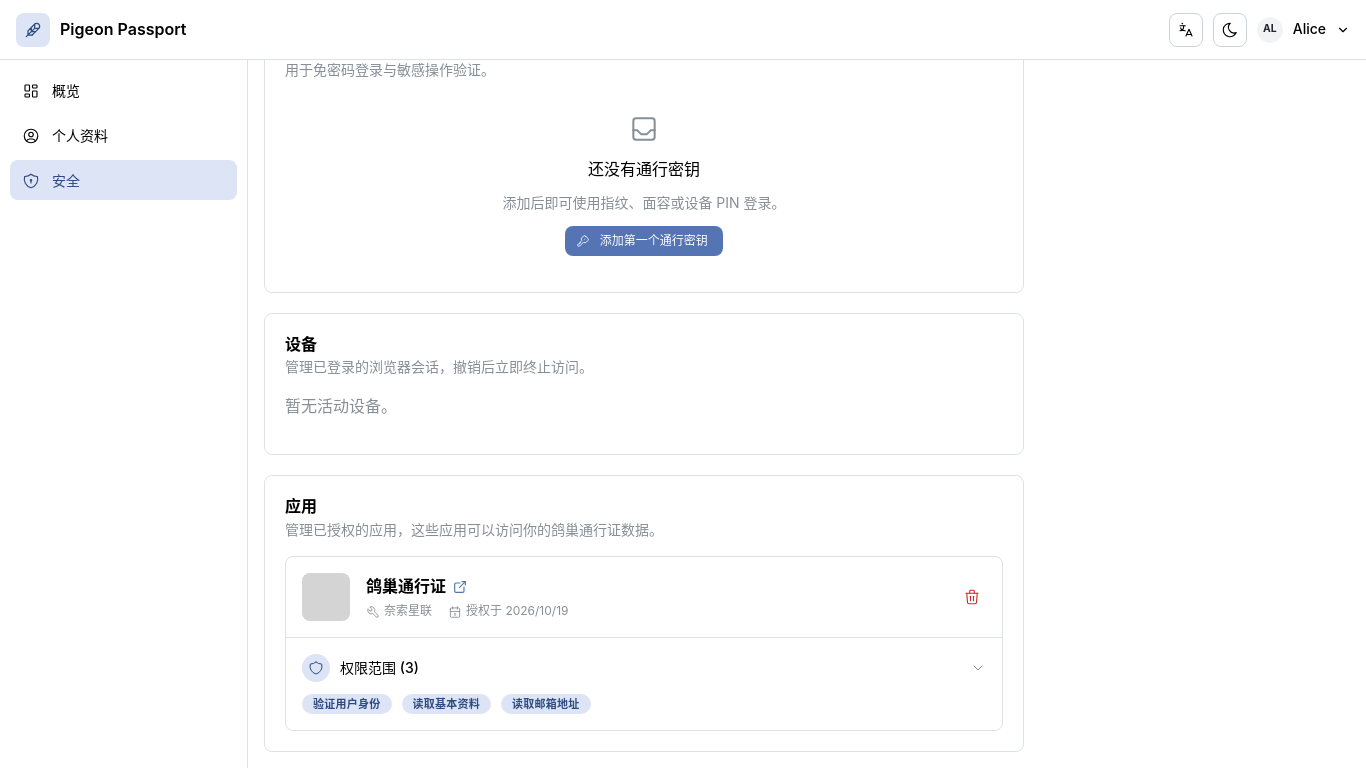
Test: AuthorizedAppsCard › renders authorized applications, expands permission details and revokes after confirmation
(page scrolled)
Expected: the heading "应用" is shown, [285,496,317,518]
Expected: the text "鸽巢通行证" is shown, [366,574,446,599]
What coordinates should you click on to do the following:
click the button "权限范围 (3)"
I would click on:
 (379, 668)
Its box is [302,654,986,682].
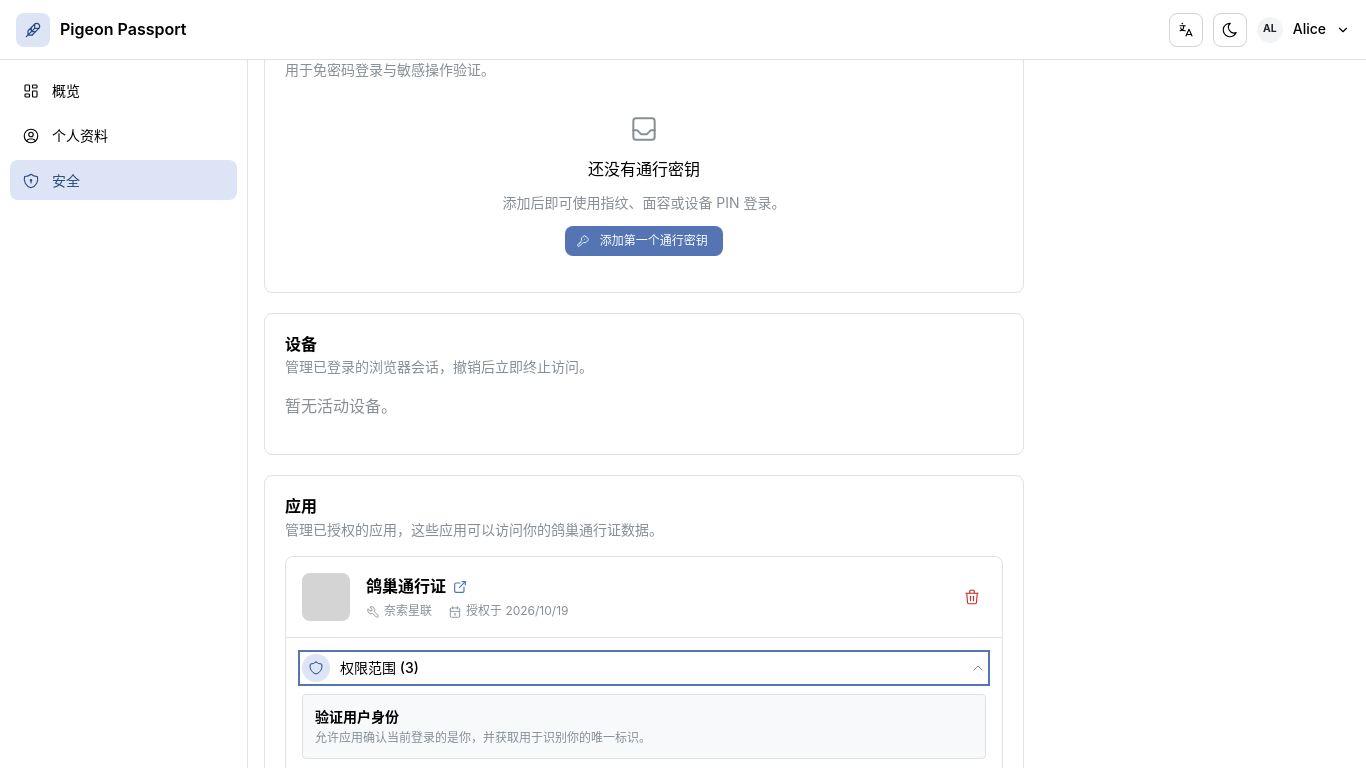
Expected: the text "允许应用确认当前登录的是你，并获取用于识别你的唯一标识。" is shown, [315,730,651,744]
What coordinates should you click on to do the following:
click the button named "撤销 鸽巢通行证 的授权"
I would click on:
 (972, 597)
Its box is [958,583,986,611].
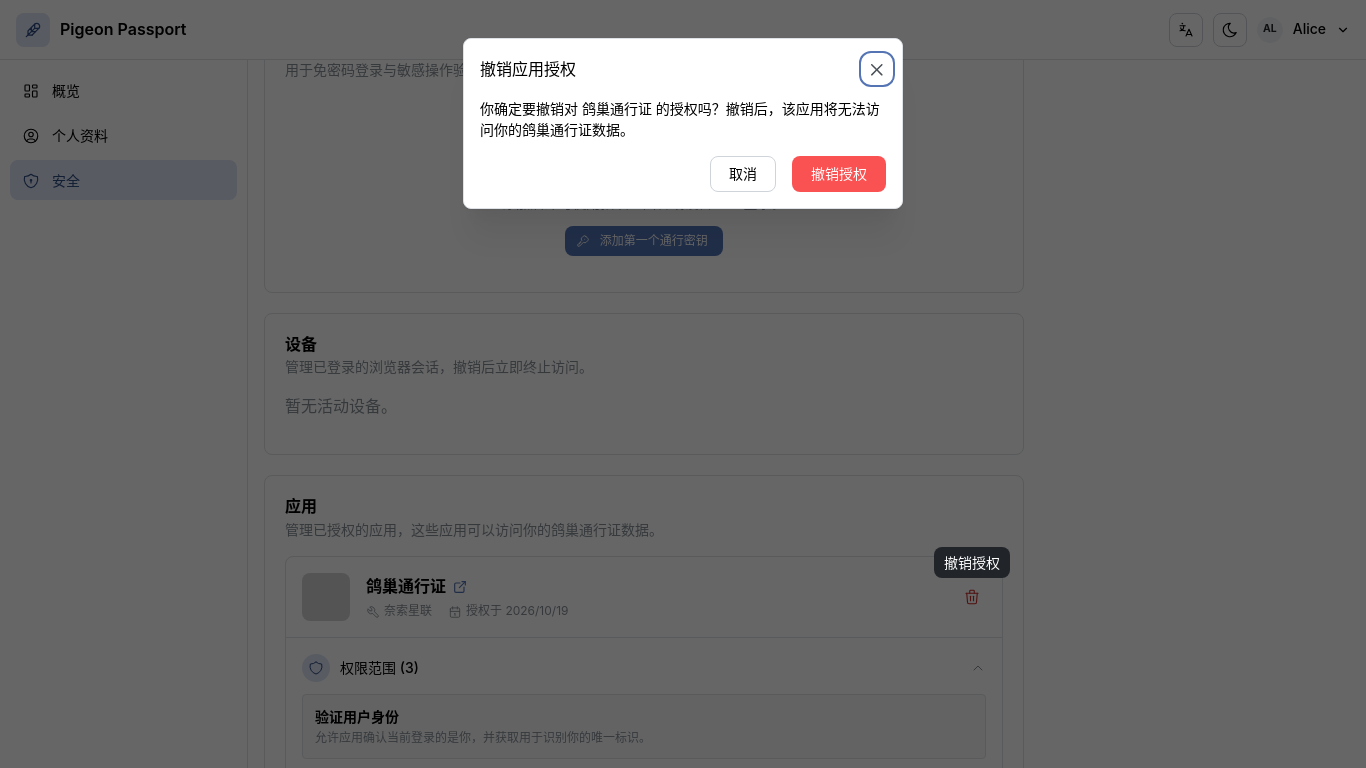
Expected: the text "你确定要撤销对 鸽巢通行证 的授权吗？撤销后，该应用将无法访问你的鸽巢通行证数据。" is shown, [480,99,886,140]
What coordinates should you click on to do the following:
click the button "撤销授权"
I would click on:
 (839, 174)
Its box is [792,156,886,192].
(page scrolled)
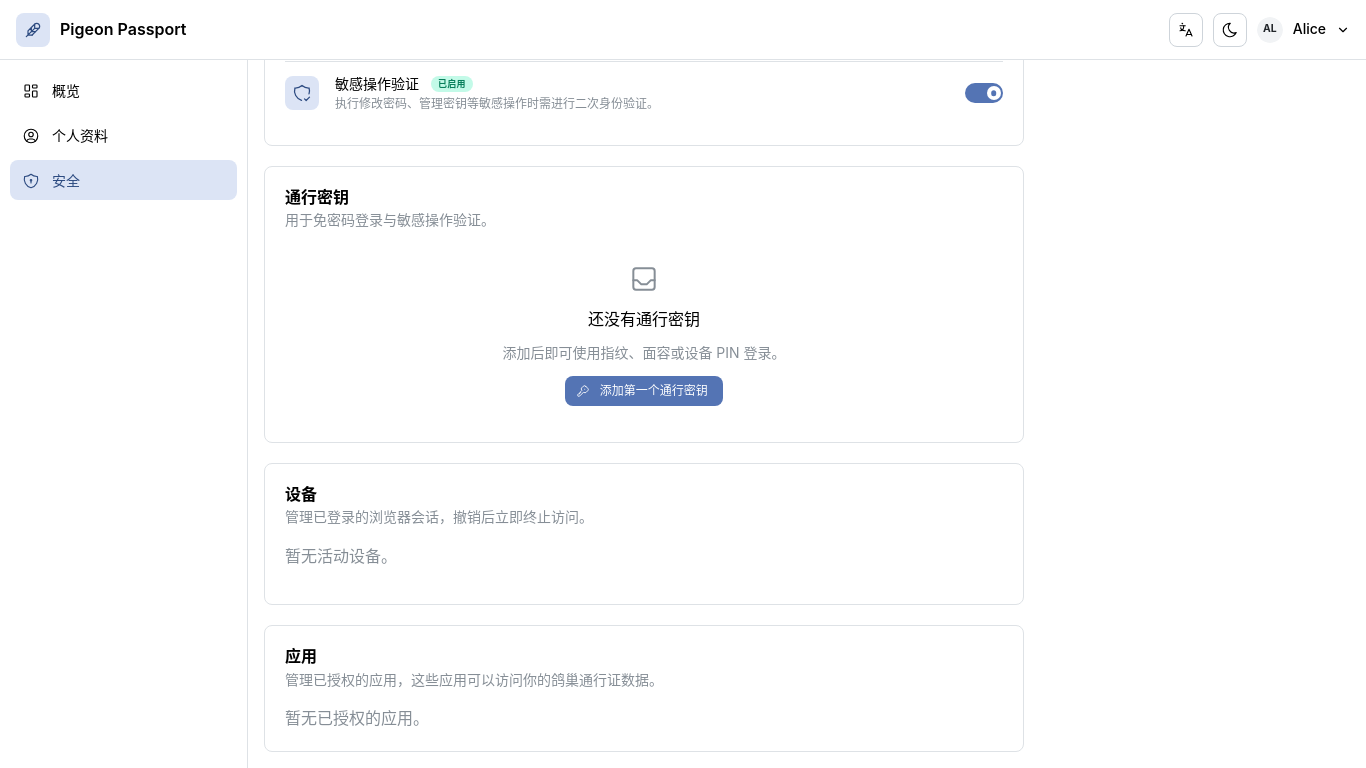
Expected: the text "暂无已授权的应用。" is shown, [285,708,429,728]
